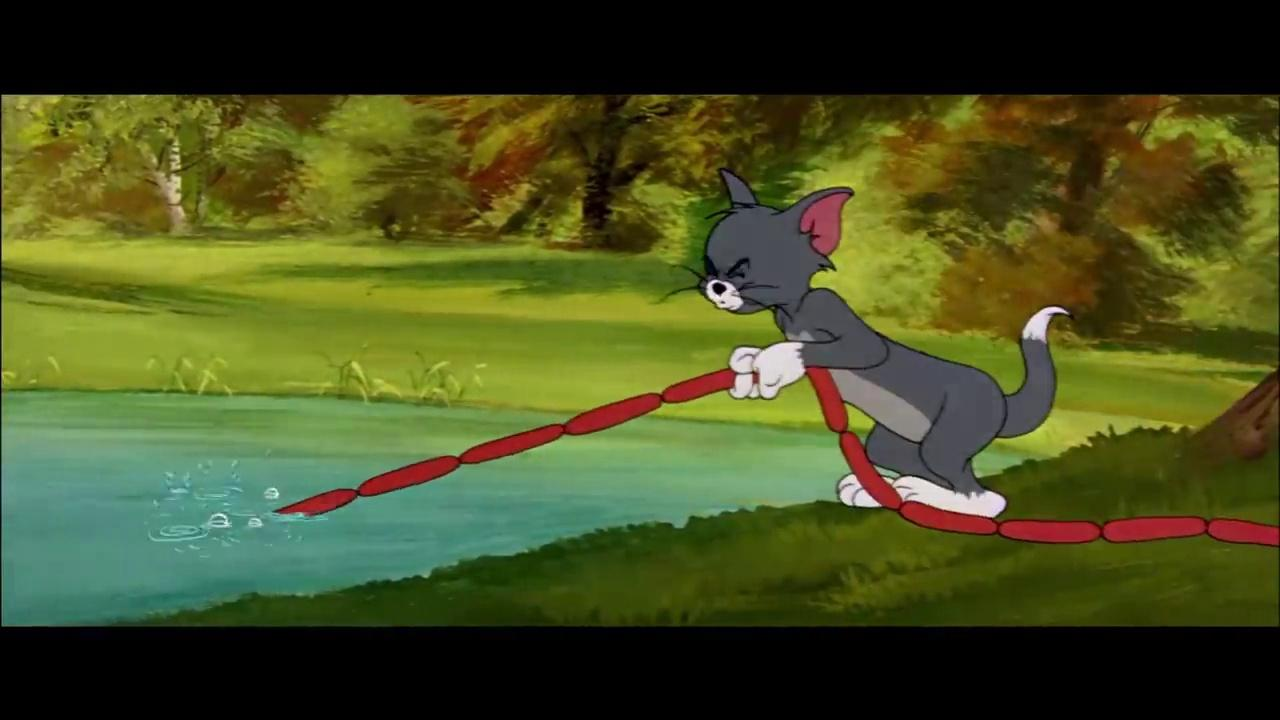Tom: (691, 164, 1072, 522)
